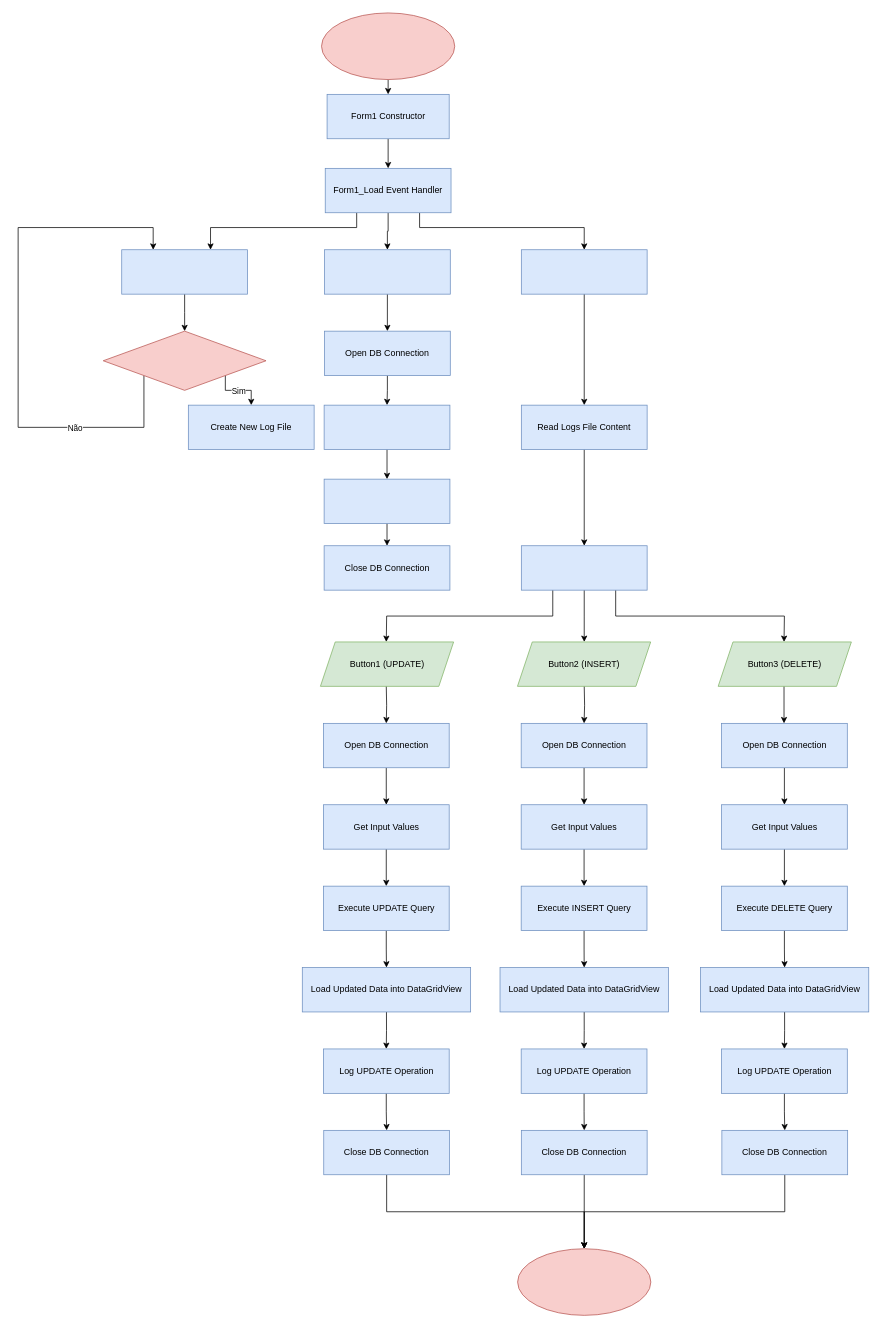
Image size: 882x1328. Some labels were removed from this diagram. Here are the shapes that lost their labels. From the top down, the box of each, then its label:
(321, 12, 455, 80): INICIO
(121, 249, 248, 294): Create Logs Directory and File
(324, 249, 450, 294): Load Data from Database
(521, 249, 647, 294): Read Logs File
(102, 330, 266, 390): if Logs File Exists
(323, 404, 450, 450): Execute SELECT Query
(323, 478, 450, 524): Load Data into DataGridView
(521, 545, 647, 590): Display Logs in RichTextBox
(517, 1248, 651, 1315): Fim
